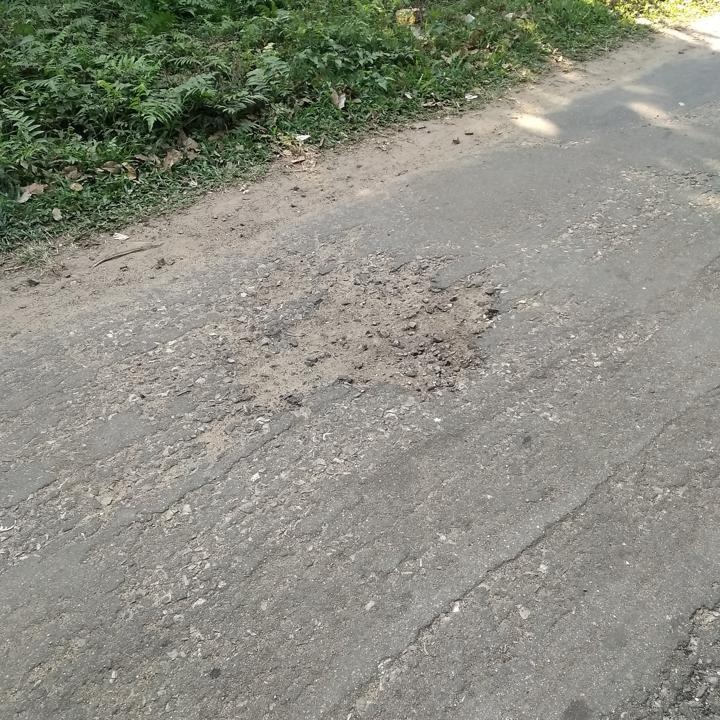pothole: (236, 249, 507, 408)
